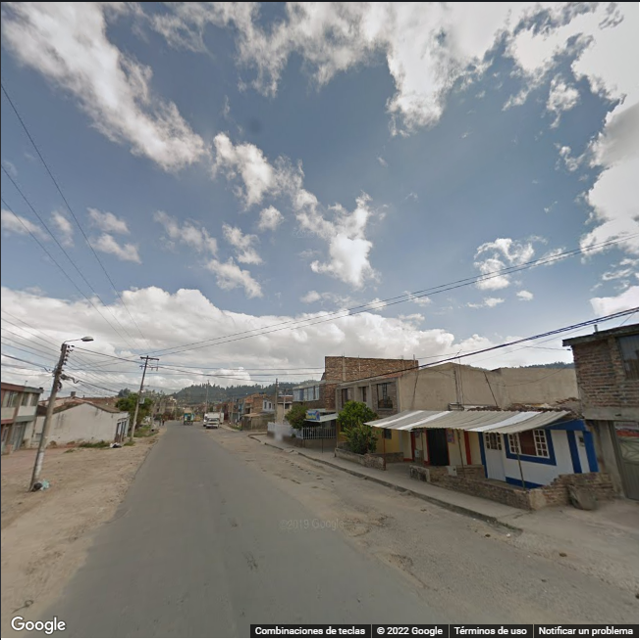D40: (373, 547, 439, 595), (344, 512, 367, 540)
